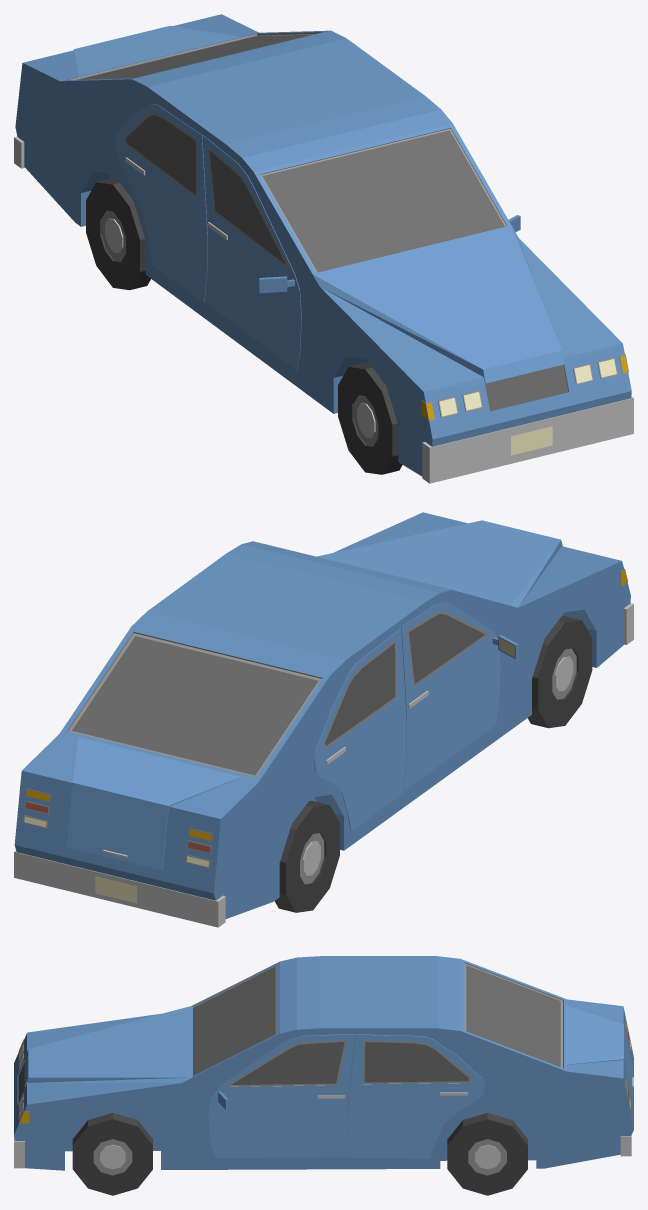
File: vintage car.fbx
3 views of the same model, one above another, from view 1: azimuth 30°, elevation 25°; view 2: azimuth 150°, elevation 25°; view 3: azimuth 270°, elevation 25° (orthographic). The views are drawn at different scales.
Parts seen in each view (by area): view 1: utrbn, Cylinder_2_1, Cylinder_2_9; view 2: utrbn, Cylinder_2_9, Cylinder_2_1; view 3: utrbn, Cylinder_2_8, Cylinder_2.
Boxes of the visible parts, x1=… form: utrbn: x1=14, y1=14, x2=633, y2=483; Cylinder_2_1: x1=338, y1=362, x2=402, y2=474; Cylinder_2_9: x1=86, y1=178, x2=150, y2=290; utrbn: x1=14, y1=512, x2=633, y2=927; Cylinder_2_9: x1=274, y1=800, x2=339, y2=912; Cylinder_2_1: x1=528, y1=616, x2=592, y2=728; utrbn: x1=14, y1=956, x2=633, y2=1170; Cylinder_2_8: x1=447, y1=1113, x2=527, y2=1195; Cylinder_2: x1=72, y1=1113, x2=152, y2=1195.
Size of the model in its own units: 169 by 139 by 468.
